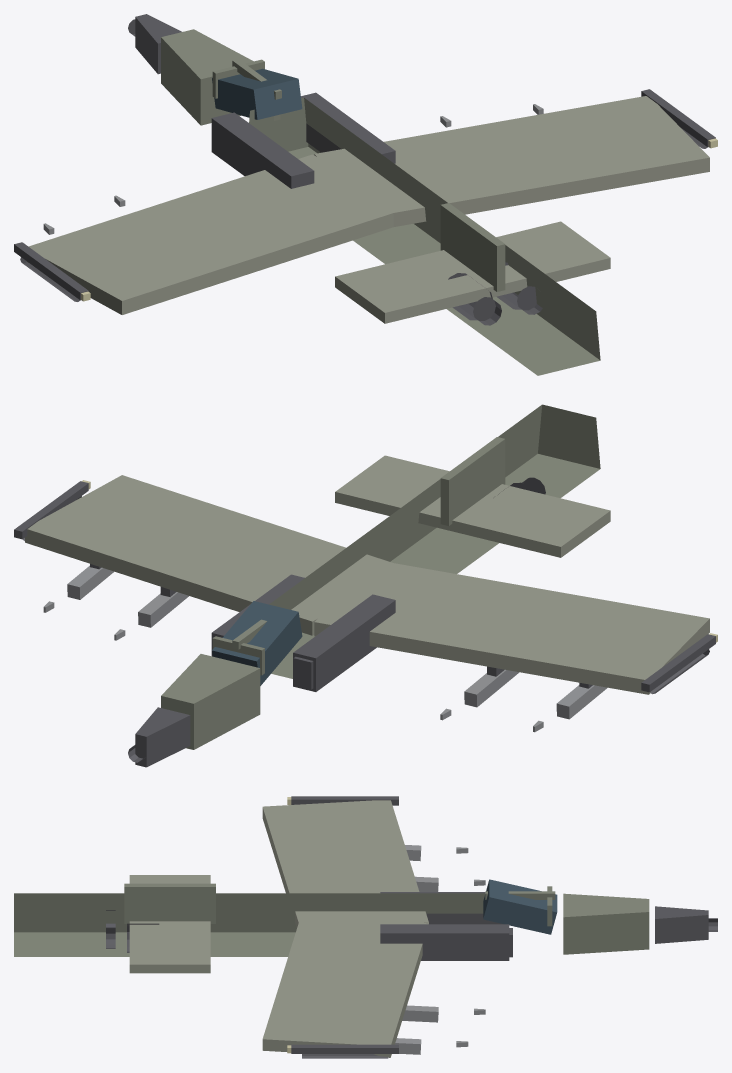
The model's file is soviet_aircraft.glb.
The picture shows the model from 3 angles, top to bottom: view 1: azimuth 30°, elevation 25°; view 2: azimuth 150°, elevation 25°; view 3: azimuth 270°, elevation 25°; orthographic projection. The views are drawn at different scales.
Visible parts, largest first — view 1: WingL, WingR, hull, Tail, Intakes, Fin, Canopy, Nozzles, Nose, RailL, RailR, CanopyFrame; view 2: WingL, WingR, hull, Tail, Intakes, Canopy, Fin, Nose, StoreL, StoreR, RailL, CanopyFrame (+1 smaller); view 3: hull, WingR, WingL, Tail, Intakes, Fin, Canopy, Nose, RailR, StoreR, RailL, StoreL (+1 smaller).
Part boxes in pixels (x1=…): WingL: x1=27, y1=154, x2=408, y2=314; WingR: x1=314, y1=96, x2=709, y2=226; hull: x1=161, y1=29, x2=600, y2=375; Tail: x1=335, y1=221, x2=610, y2=323; Intakes: x1=211, y1=92, x2=395, y2=188; Fin: x1=440, y1=203, x2=505, y2=291; Canopy: x1=212, y1=68, x2=302, y2=119; Nozzles: x1=448, y1=262, x2=542, y2=325; Nose: x1=128, y1=14, x2=181, y2=74; RailL: x1=14, y1=242, x2=88, y2=301; RailR: x1=641, y1=89, x2=715, y2=148; CanopyFrame: x1=212, y1=59, x2=281, y2=120; WingL: x1=314, y1=561, x2=709, y2=694; WingR: x1=25, y1=475, x2=408, y2=635; hull: x1=161, y1=404, x2=600, y2=749; Tail: x1=335, y1=455, x2=610, y2=557; Intakes: x1=211, y1=574, x2=395, y2=691; Canopy: x1=212, y1=601, x2=302, y2=685; Fin: x1=440, y1=437, x2=505, y2=525; Nose: x1=128, y1=707, x2=190, y2=767; StoreL: x1=440, y1=669, x2=607, y2=732; StoreR: x1=43, y1=565, x2=188, y2=640; RailL: x1=641, y1=634, x2=715, y2=694; CanopyFrame: x1=212, y1=619, x2=266, y2=675; hull: x1=14, y1=893, x2=649, y2=956; WingR: x1=262, y1=920, x2=428, y2=1057; WingL: x1=262, y1=800, x2=428, y2=929; Tail: x1=129, y1=875, x2=210, y2=973; Intakes: x1=380, y1=892, x2=512, y2=960; Fin: x1=124, y1=883, x2=215, y2=923; Canopy: x1=483, y1=879, x2=557, y2=934; Nose: x1=655, y1=906, x2=717, y2=943; RailR: x1=291, y1=1044, x2=398, y2=1058; StoreR: x1=395, y1=1005, x2=485, y2=1054; RailL: x1=291, y1=796, x2=398, y2=805; StoreL: x1=405, y1=845, x2=485, y2=891.
Size of the model in its own units: 12.18 by 1.58 by 14.38.
